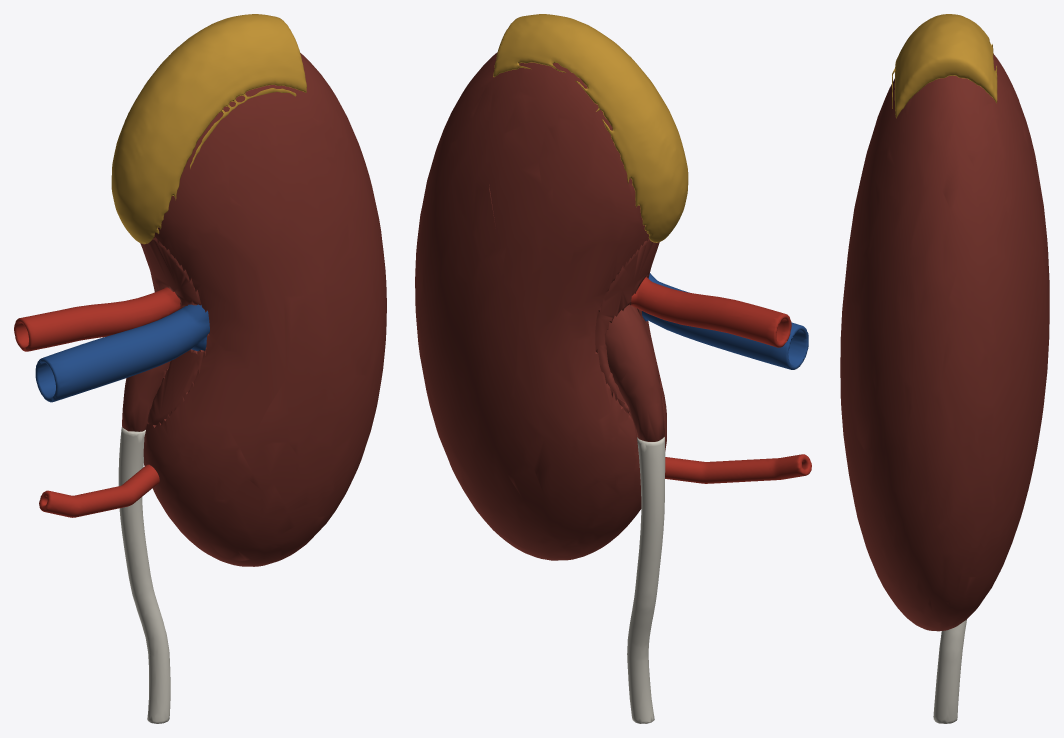
File: kidney_accessory_artery.glb
3 views of the same model, side by side, from view 1: azimuth 30°, elevation 25°; view 2: azimuth 150°, elevation 25°; view 3: azimuth 270°, elevation 25° (orthographic). The views are drawn at different scales.
Visible parts, largest first — view 1: kidney_body, adrenal_gland, renal_vein, ureter, renal_artery, accessory_renal_artery; view 2: kidney_body, adrenal_gland, ureter, renal_artery, accessory_renal_artery, renal_vein; view 3: kidney_body, adrenal_gland, ureter.
Boxes of the visible parts, box(x1,y1,x2,y2) form: kidney_body: box(122, 53, 386, 566); adrenal_gland: box(111, 14, 306, 244); renal_vein: box(35, 304, 209, 402); ureter: box(118, 427, 170, 723); renal_artery: box(14, 287, 182, 351); accessory_renal_artery: box(39, 464, 159, 517); kidney_body: box(415, 52, 666, 560); adrenal_gland: box(493, 14, 688, 242); ureter: box(627, 437, 665, 723); renal_artery: box(628, 277, 791, 347); accessory_renal_artery: box(665, 454, 811, 483); renal_vein: box(642, 273, 808, 369); kidney_body: box(840, 54, 1049, 631); adrenal_gland: box(892, 14, 997, 118); ureter: box(933, 619, 966, 723).
Size of the model in its own units: 7.91 by 14.23 by 3.65.
